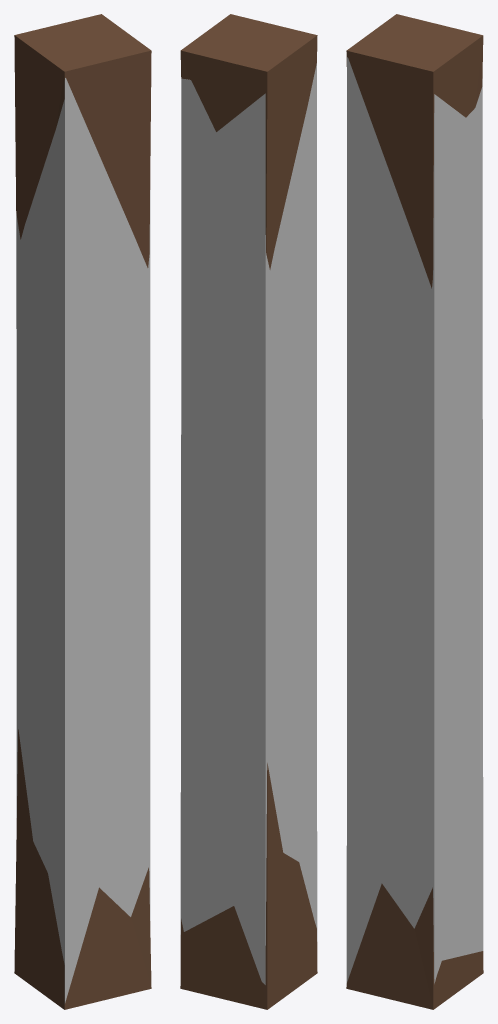
File: SM_Bld_Wall_Beam_02.fbx
The picture shows the model from 3 angles, left to right: view 1: azimuth 30°, elevation 25°; view 2: azimuth 150°, elevation 25°; view 3: azimuth 330°, elevation 25°; orthographic projection.
Visible parts, largest first — view 1: SM_Bld_Wall_Beam_02_ConvexHulls, SM_Bld_Wall_Beam_02; view 2: SM_Bld_Wall_Beam_02_ConvexHulls, SM_Bld_Wall_Beam_02; view 3: SM_Bld_Wall_Beam_02_ConvexHulls, SM_Bld_Wall_Beam_02.
Boxes of the visible parts, <box> form: SM_Bld_Wall_Beam_02_ConvexHulls: <box>16,78,150,1003</box>; SM_Bld_Wall_Beam_02: <box>14,14,151,1009</box>; SM_Bld_Wall_Beam_02_ConvexHulls: <box>180,63,317,984</box>; SM_Bld_Wall_Beam_02: <box>180,14,317,1009</box>; SM_Bld_Wall_Beam_02_ConvexHulls: <box>346,57,483,983</box>; SM_Bld_Wall_Beam_02: <box>346,14,483,1009</box>.
Bounding box in the file's own units: 29.11 × 29.01 × 300.
2 materials, 1 textured.
